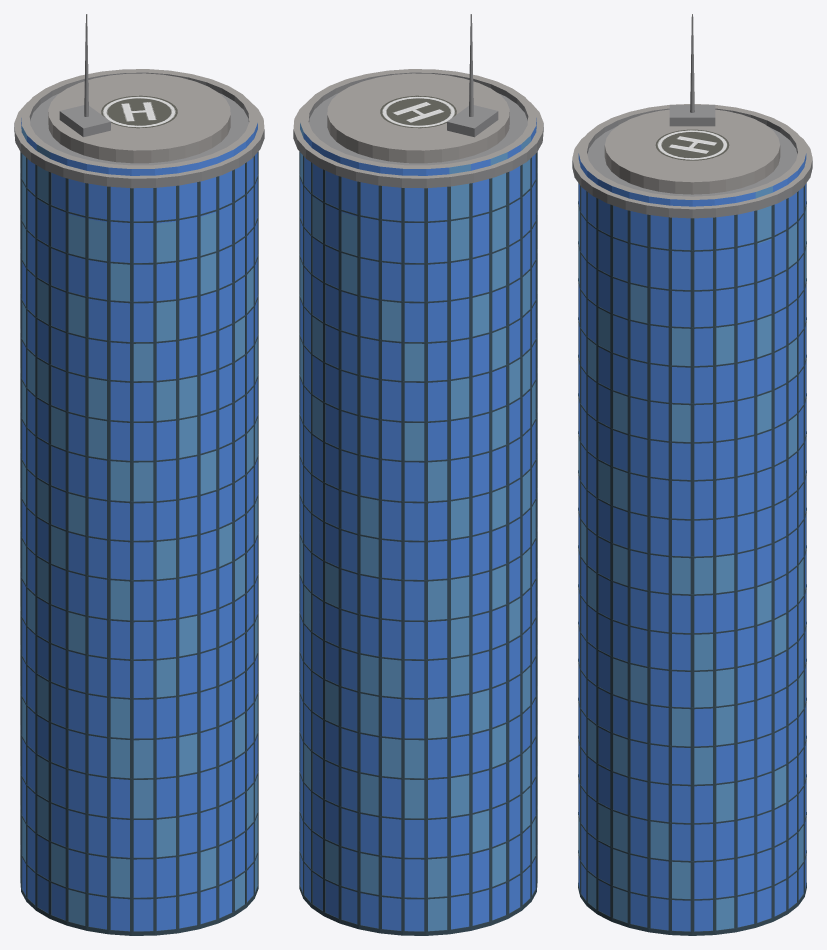
Rendered from daxingjianzhu_yuanxing.fbx.
3 views of the same model, side by side, from view 1: azimuth 30°, elevation 25°; view 2: azimuth 150°, elevation 25°; view 3: azimuth 270°, elevation 25° (orthographic). The views are drawn at different scales.
Parts seen in each view (by area): view 1: daxingjianzhu_yuanxing; view 2: daxingjianzhu_yuanxing; view 3: daxingjianzhu_yuanxing.
Boxes of the visible parts, bbox=[...] form: daxingjianzhu_yuanxing: bbox=[14, 14, 264, 935]; daxingjianzhu_yuanxing: bbox=[293, 14, 543, 935]; daxingjianzhu_yuanxing: bbox=[572, 14, 812, 935].
Size of the model in its own units: 1126 by 1126 by 4382.
